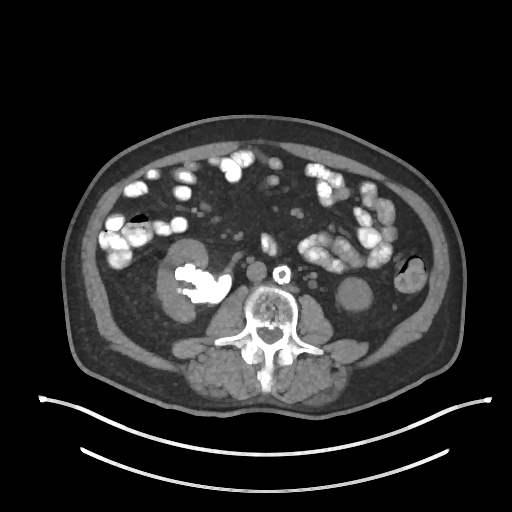Lesion: (170, 257, 234, 307)
